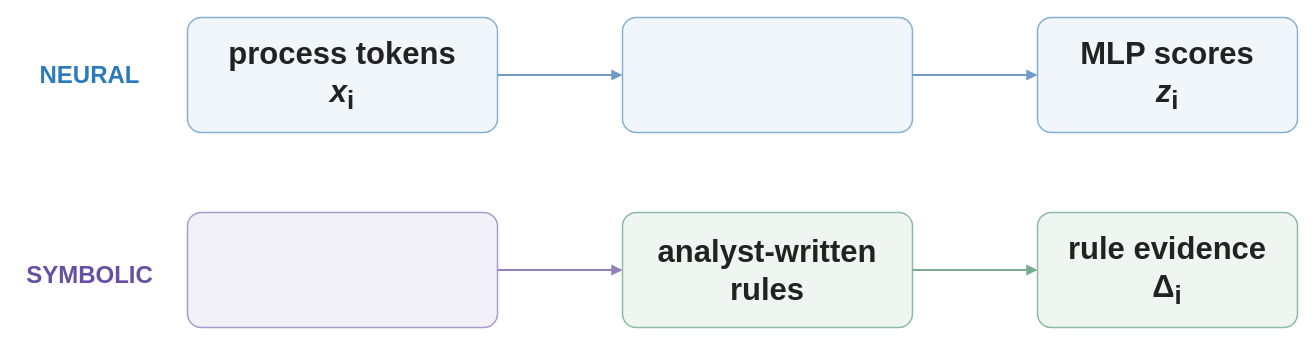
Some shapes in this 1315 by 347 pixel diagram are drawn without their labels. The shapes that lost their labels are listed below. From the top down, each one's centre as x and y in pixels, then its label:
At point (767, 74): "MLP".
At point (342, 269): "process context relations A i = φ( x i )".
